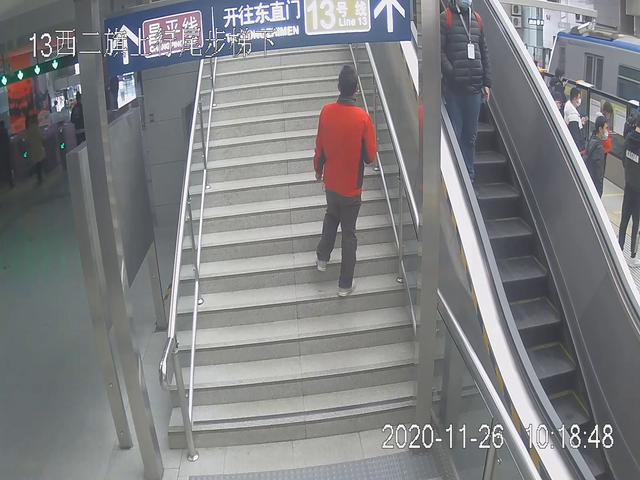person: (309, 61, 381, 304), (434, 1, 491, 201)
